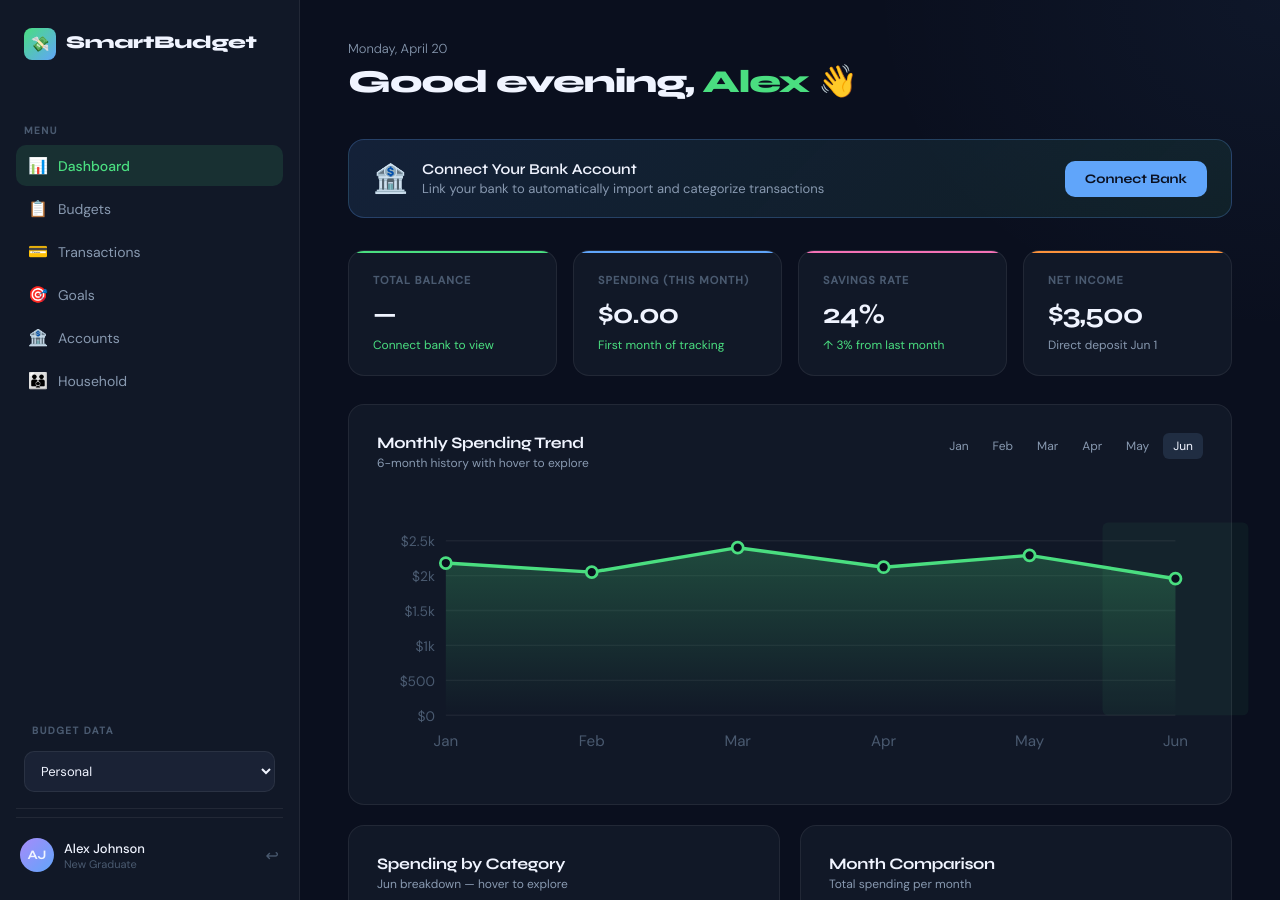
Dashboard › switches to Budgets panel when Budgets nav is clicked
The image size is (1280, 900).
What coordinates should you click on to do the following:
click the button "📋 Budgets"
I would click on:
 (85, 208)
Its box is x1=16 y1=188 x2=283 y2=229.
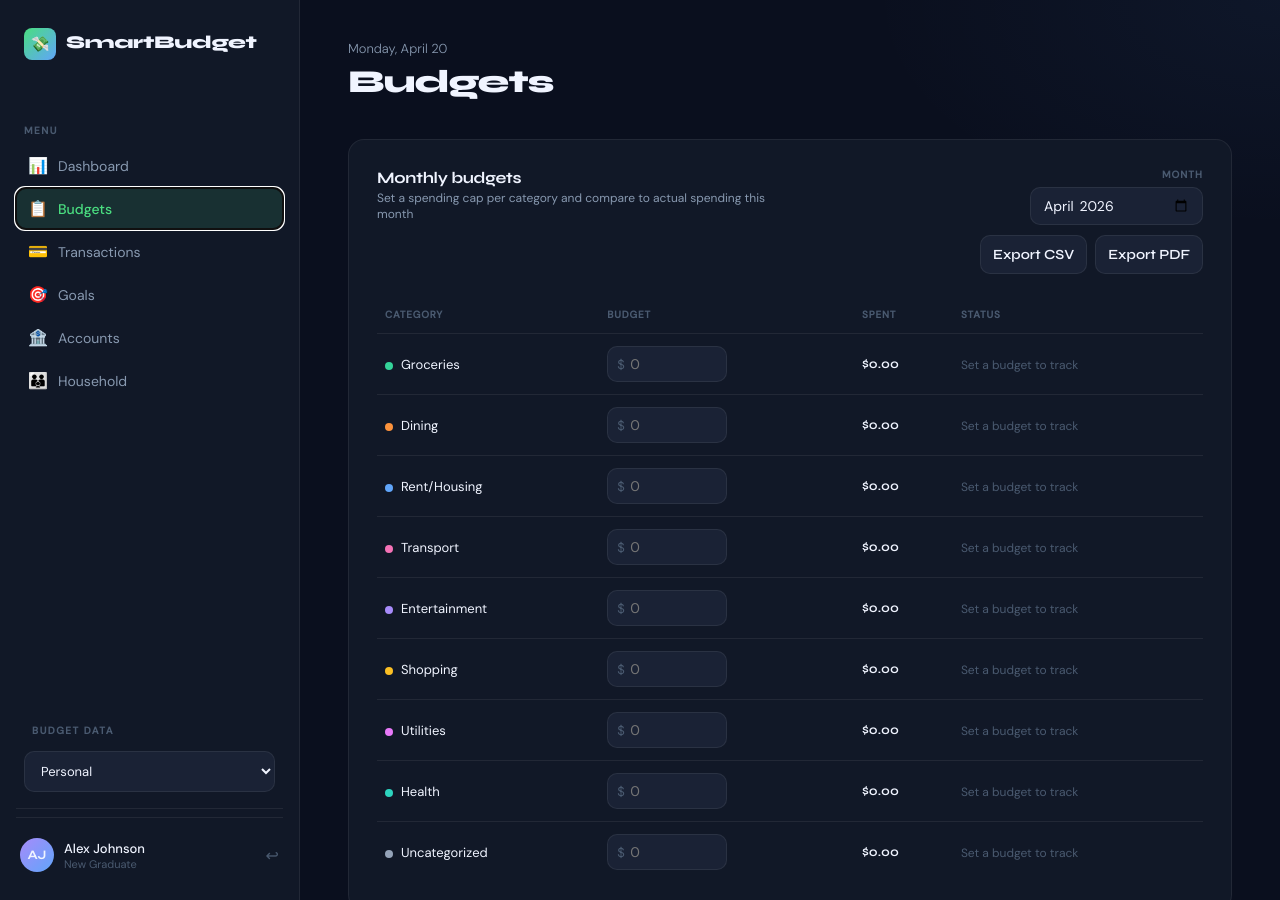
Expected: the text "Monthly budgets" is shown, x1=377 y1=168 x2=521 y2=187
